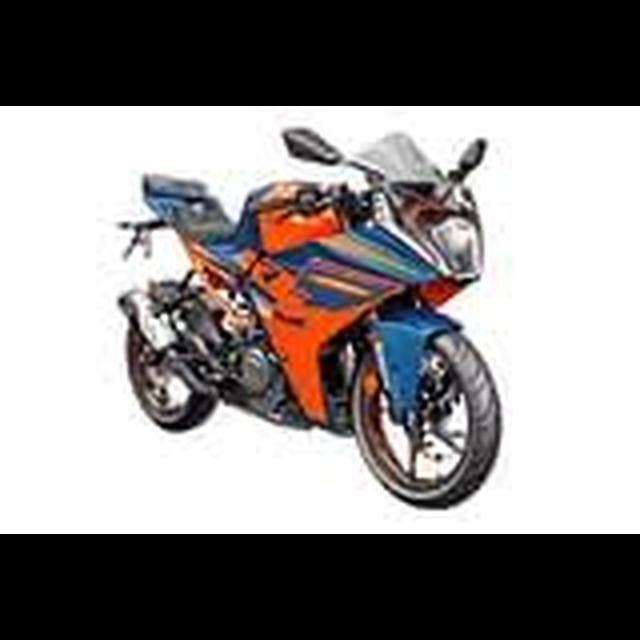motorcycle: (119, 121, 505, 516)
